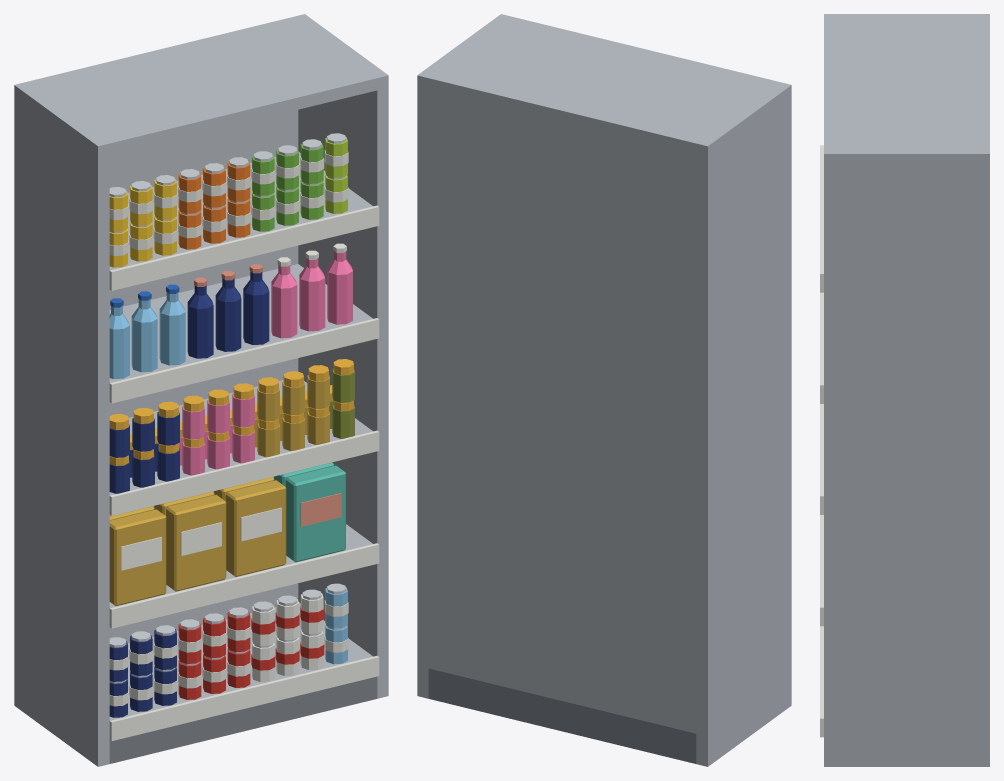
Rendered from wall_shelf.glb.
3 renders of one model, left to right at view 1: azimuth 30°, elevation 25°; view 2: azimuth 150°, elevation 25°; view 3: azimuth 270°, elevation 25°, orthographic.
Parts seen in each view (by area): view 1: wall_shelf; view 2: wall_shelf; view 3: wall_shelf.
Boxes of the visible parts, x1,y1,x2,y2 form: wall_shelf: (14, 14, 388, 766); wall_shelf: (417, 14, 791, 766); wall_shelf: (820, 14, 989, 766).
Bounding box in the file's own units: 1 × 2.04 × 0.512.
Materials: 1 (1 with a texture image).
